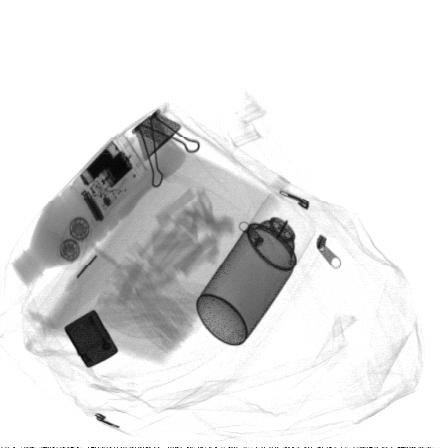Lighter: (64, 310, 118, 368)
Sprayer: (197, 193, 318, 345)
